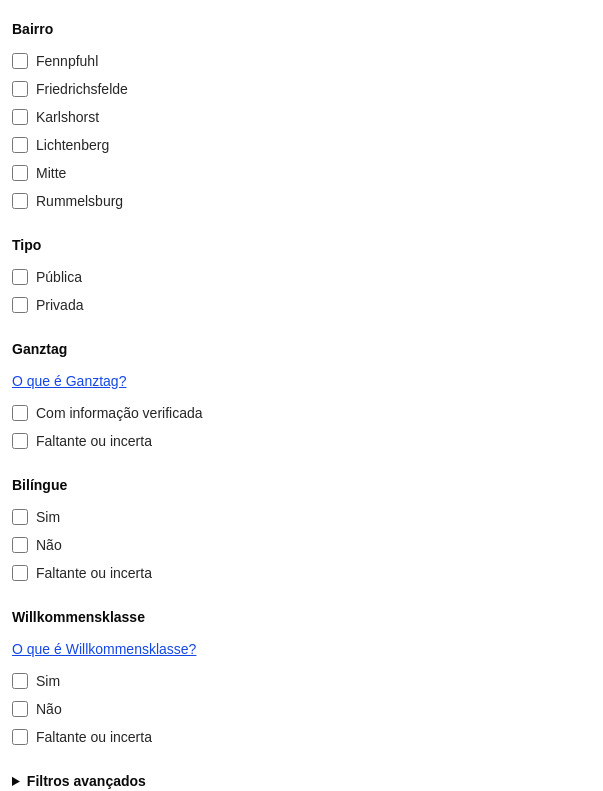
SchoolFilters › renders advanced filter groups inside details
The width and height of the screenshot is (603, 791).
(page scrolled)
What coordinates should you click on to do the following:
click the heading "Filtros avançados"
I would click on:
 (86, 781)
Its box is x1=27 y1=773 x2=146 y2=789.
(page scrolled)
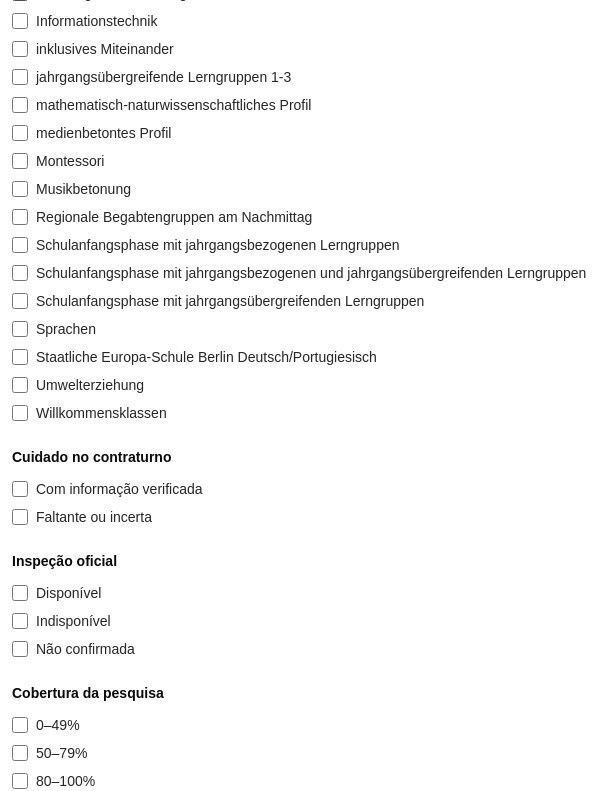
Result: the text "Cuidado no contraturno" is shown at x1=12 y1=447 x2=171 y2=467
Result: the text "Inspeção oficial" is shown at x1=12 y1=551 x2=117 y2=571
Result: the text "Cobertura da pesquisa" is shown at x1=12 y1=683 x2=164 y2=703
